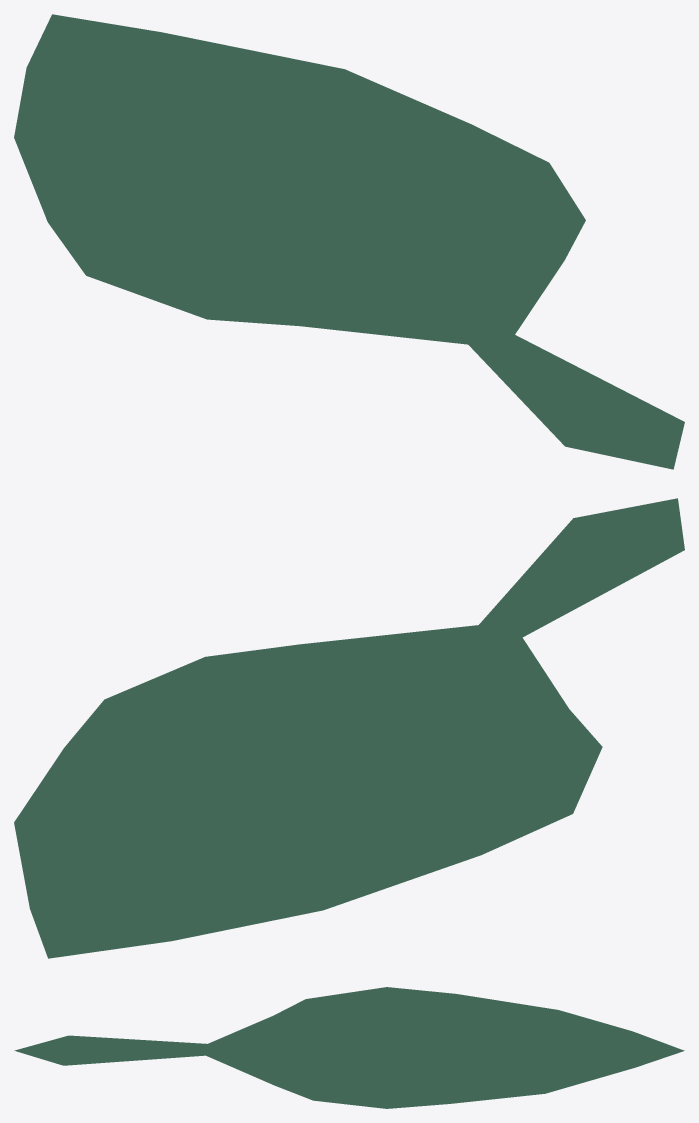
The model's file is SoloLeaf.fbx.
3 views of the same model, one above another, from view 1: azimuth 30°, elevation 25°; view 2: azimuth 150°, elevation 25°; view 3: azimuth 270°, elevation 25° (orthographic). The views are drawn at different scales.
Visible parts, largest first — view 1: Plane.007; view 2: Plane.007; view 3: Plane.007.
Part boxes in pixels (bbox=[...]): Plane.007: bbox=[14, 14, 684, 469]; Plane.007: bbox=[14, 498, 684, 958]; Plane.007: bbox=[14, 987, 684, 1108].
Size of the model in its own units: 125 by 0.0372 by 290.
